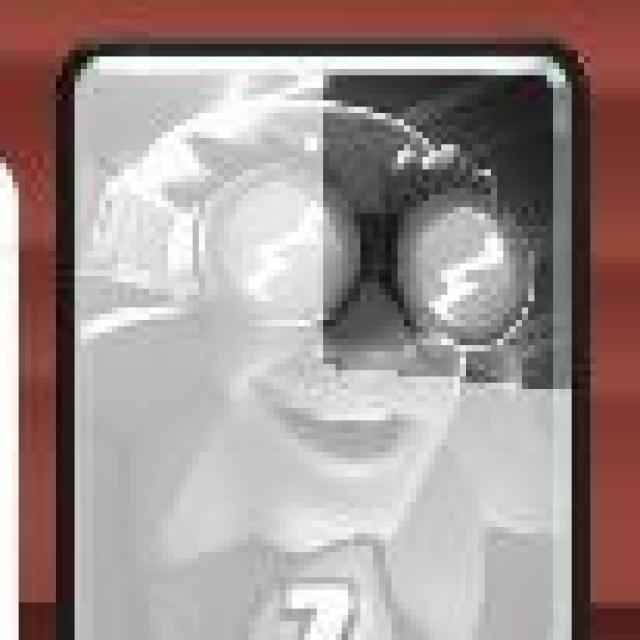Electro_Giant: (52, 38, 594, 640)
